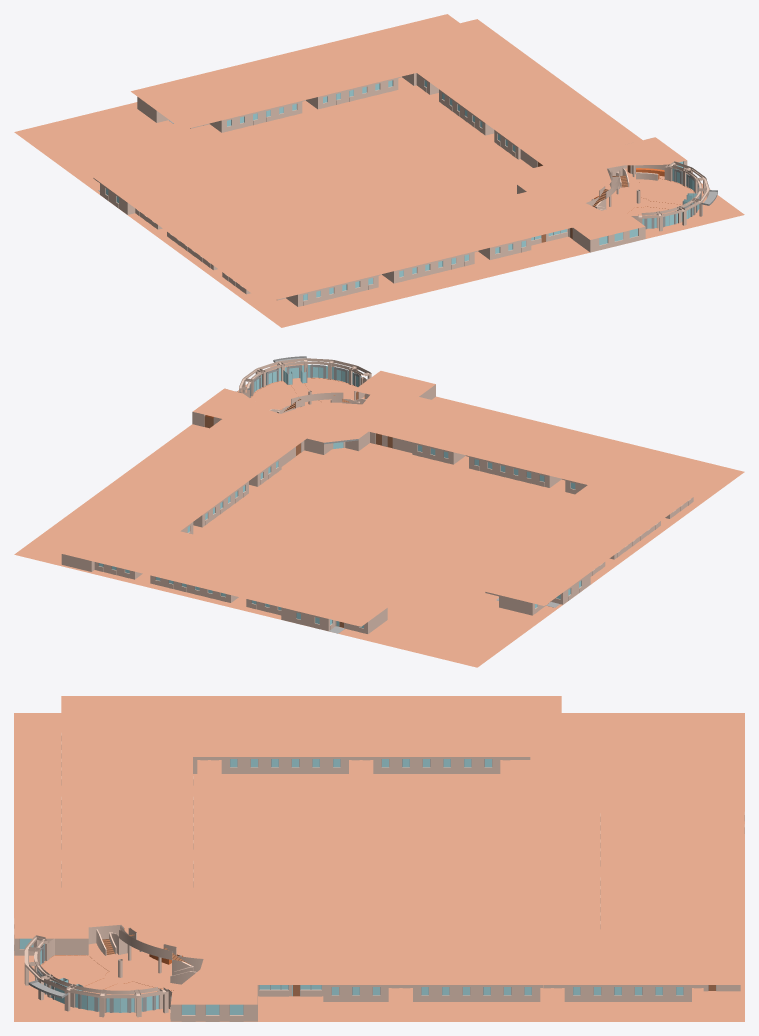
Rendered from ResHall.obj.
3 views of the same model, one above another, from view 1: azimuth 30°, elevation 25°; view 2: azimuth 150°, elevation 25°; view 3: azimuth 270°, elevation 25° (orthographic). The views are drawn at different scales.
Visible parts, largest first — view 1: polySurface8491; view 2: polySurface8491; view 3: polySurface8491.
Part boxes in pixels (x1=…): polySurface8491: x1=14, y1=14, x2=744, y2=327; polySurface8491: x1=14, y1=356, x2=744, y2=667; polySurface8491: x1=14, y1=696, x2=744, y2=1021.
Bounding box in the file's own units: 3745 × 144 × 3745.
